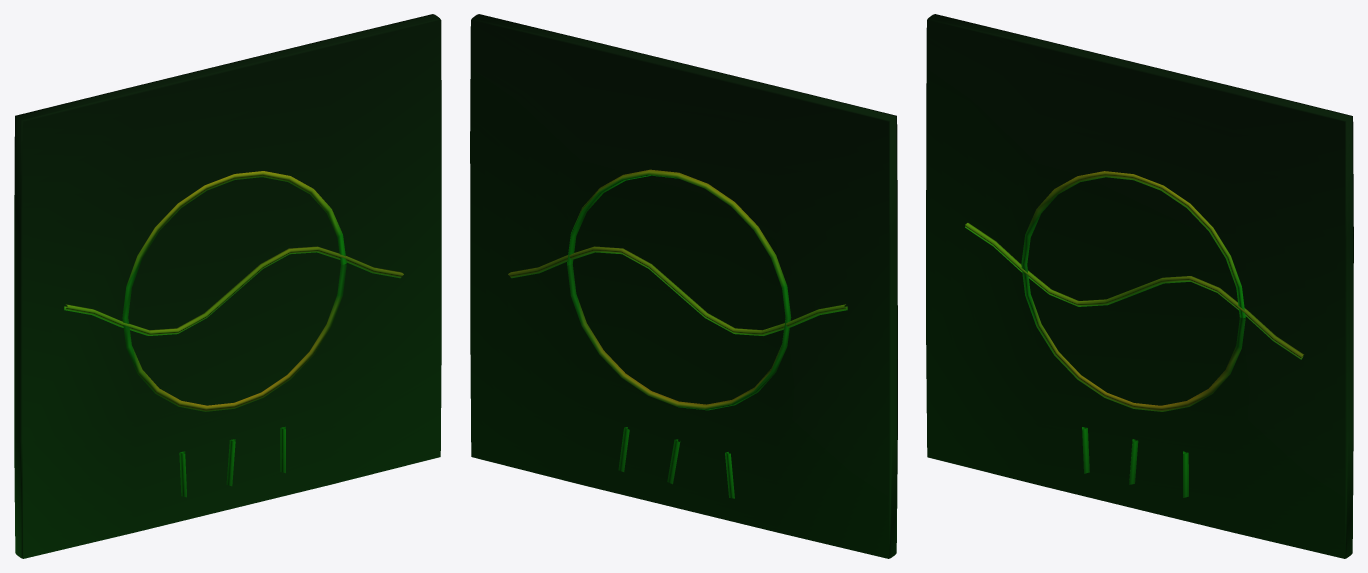
File: wright_mark.glb
3 renders of one model, left to right at view 1: azimuth 30°, elevation 25°; view 2: azimuth 150°, elevation 25°; view 3: azimuth 330°, elevation 25°, orthographic.
Parts seen in each view (by area): view 1: wright_mark; view 2: wright_mark; view 3: wright_mark.
Part boxes in pixels (bbox=[...]): wright_mark: bbox=[14, 14, 441, 558]; wright_mark: bbox=[470, 14, 897, 558]; wright_mark: bbox=[926, 14, 1353, 558].
Size of what is drawn, in the model's own units: 0.5008 by 0.5001 by 0.031.
